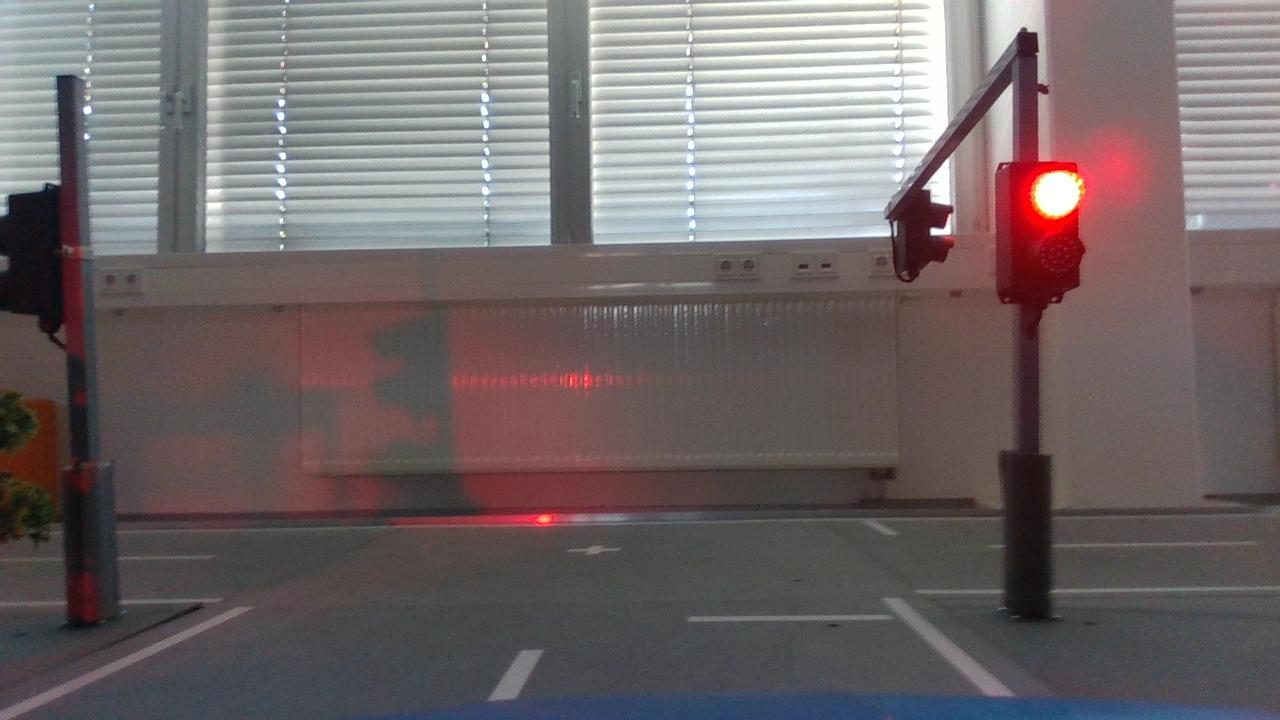traffic_light_red: (982, 147, 1107, 322)
